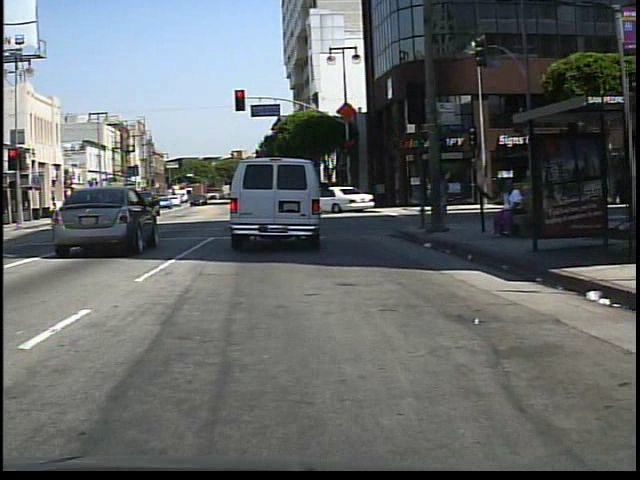person: (490, 177, 527, 240), (427, 167, 456, 235), (47, 194, 66, 227)
